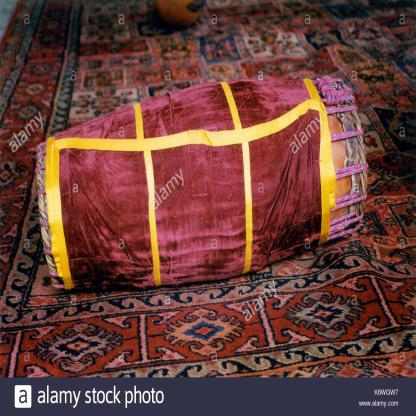Mridangam: (26, 61, 374, 293)
